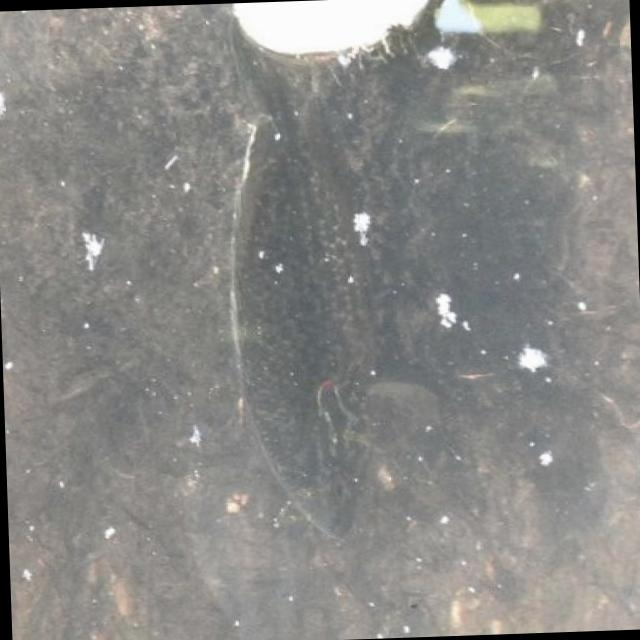Gunes Levregi: (196, 9, 426, 548)
